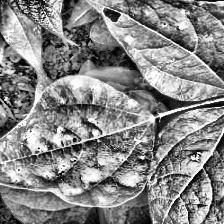Bean Rust: (0, 78, 160, 208), (79, 0, 224, 102), (145, 105, 224, 224)
